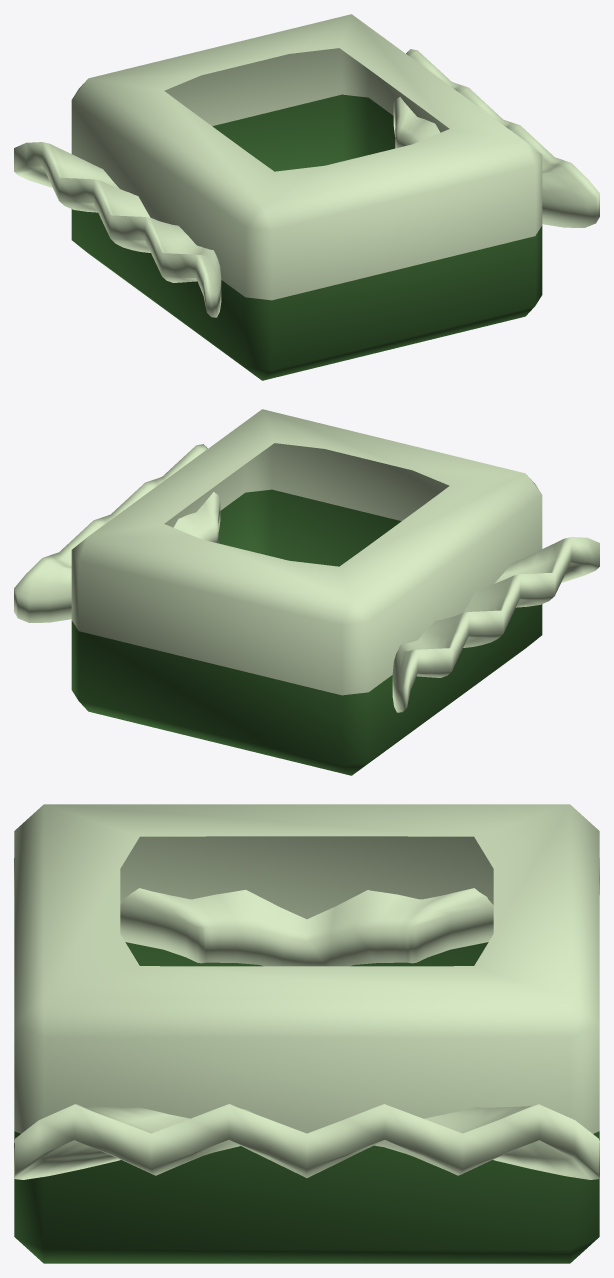
The model's file is CandyBox.fbx.
3 views of the same model, one above another, from view 1: azimuth 30°, elevation 25°; view 2: azimuth 150°, elevation 25°; view 3: azimuth 270°, elevation 25° (orthographic). The views are drawn at different scales.
Parts seen in each view (by area): view 1: candybox-upper, candybox-lower; view 2: candybox-upper, candybox-lower; view 3: candybox-upper, candybox-lower.
Part boxes in pixels (box(x1,y1,x2,y2)): candybox-upper: box(14, 14, 599, 317); candybox-lower: box(71, 94, 542, 380); candybox-upper: box(14, 409, 599, 712); candybox-lower: box(71, 489, 542, 775); candybox-upper: box(14, 804, 599, 1179); candybox-lower: box(14, 942, 599, 1263).
Bounding box in the file's own units: 63.52 × 27.06 × 54.2.
